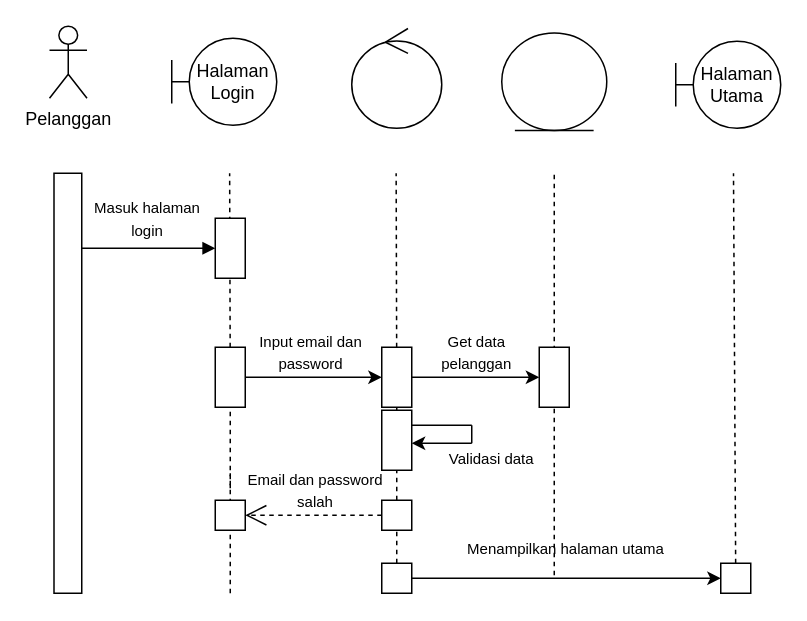
This 807x621 diagram has some shape labels left out. Here are the shapes that lost their labels. From the top down, the centre of each, then its label:
the point at 396,77: Control Proses Data
the point at 553,81: Data Pelanggan
